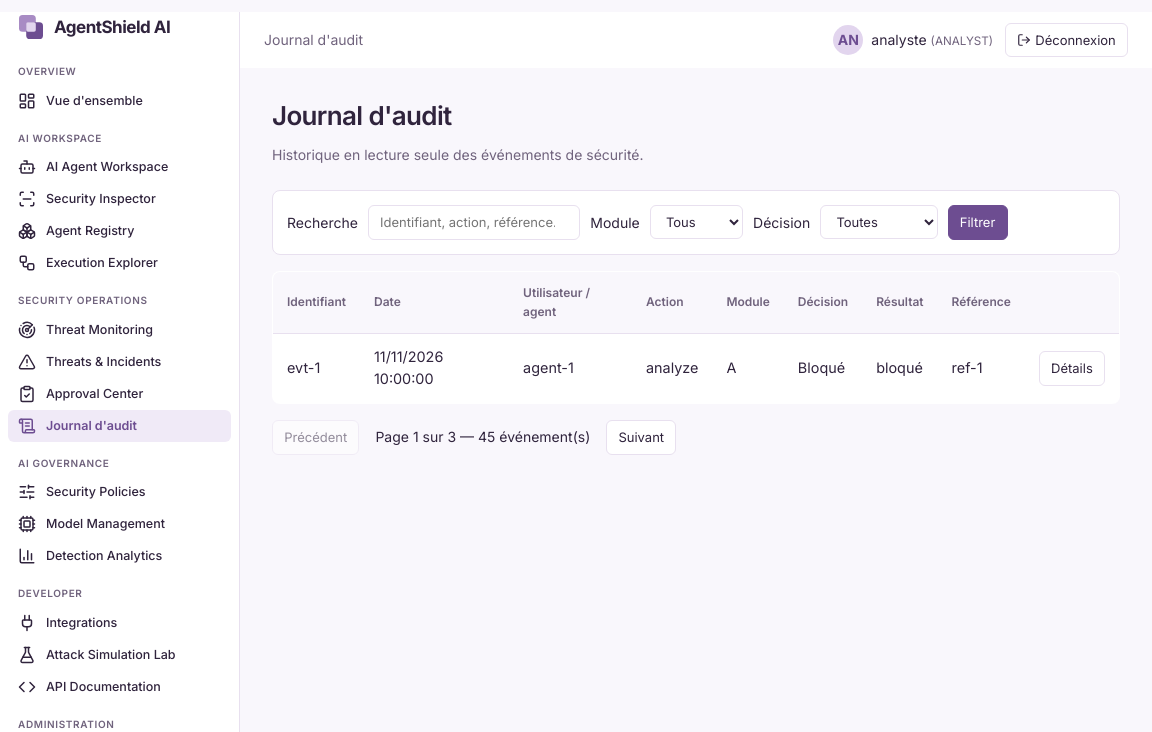
AuditTrail › pagine : Suivant / Précédent demandent la bonne page
Expected: the text "Page 1 sur 3 — 45 événement(s)" is shown, [375, 426, 590, 448]
Expected: the button "Précédent" is disabled, [272, 420, 359, 455]
Click the button "Suivant".
click(641, 437)  # box [606, 420, 676, 455]
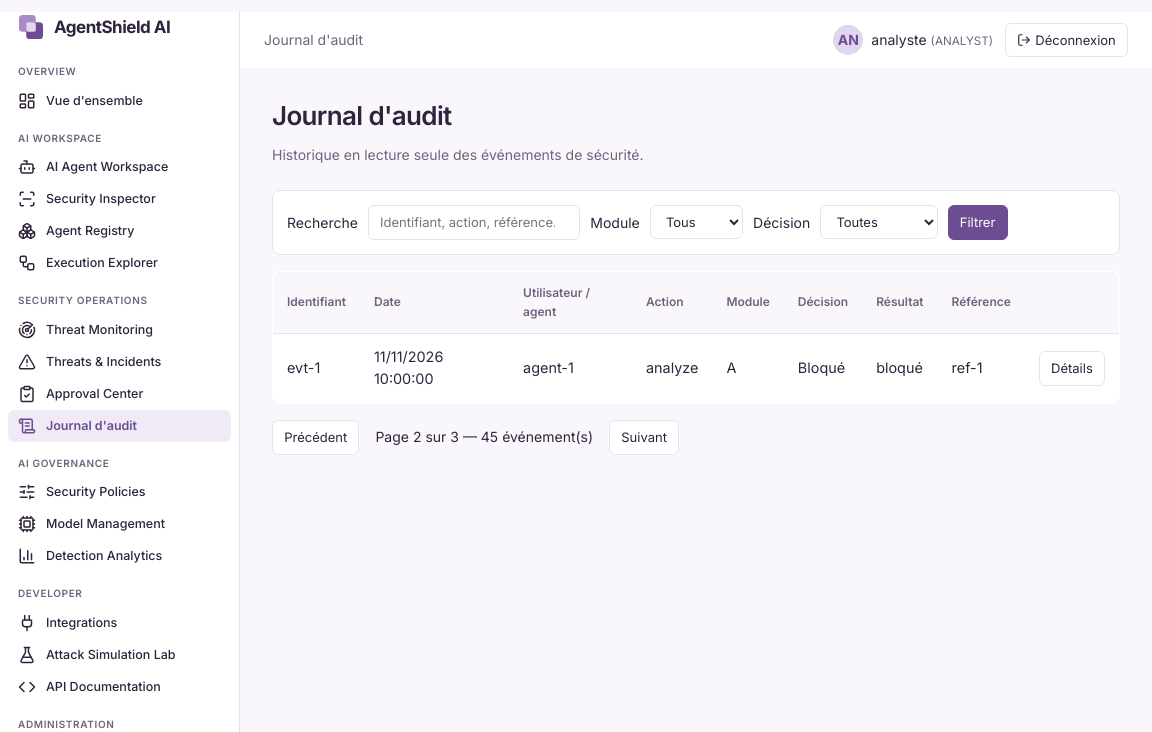
Expected: the text "Page 2 sur 3 — 45 événement(s)" is shown, [375, 426, 593, 448]
